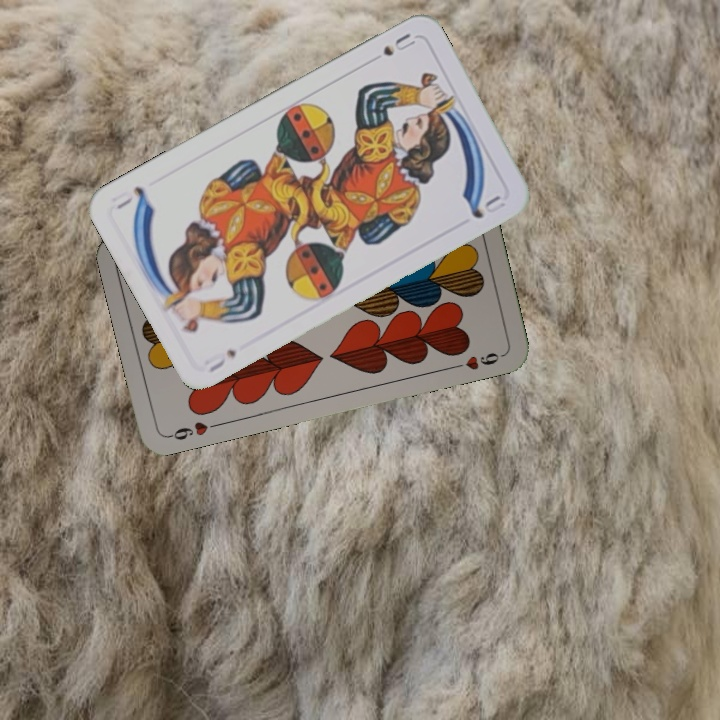H9: (164, 417, 210, 443)
SU: (378, 29, 418, 59), (200, 345, 239, 375)
